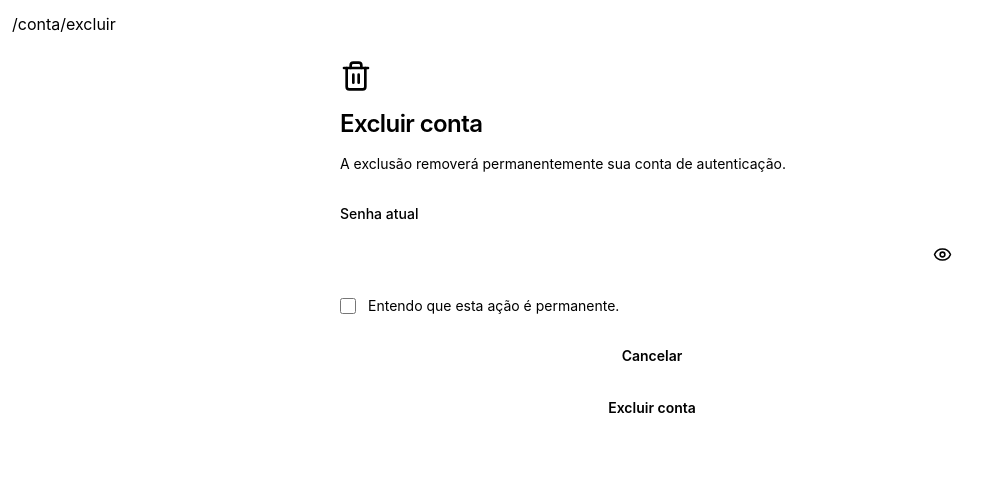
Test: DeleteCurrentUserPage › exige senha e confirmação explícita
Click the button "Excluir conta": [652, 408] box [340,388,964,428]
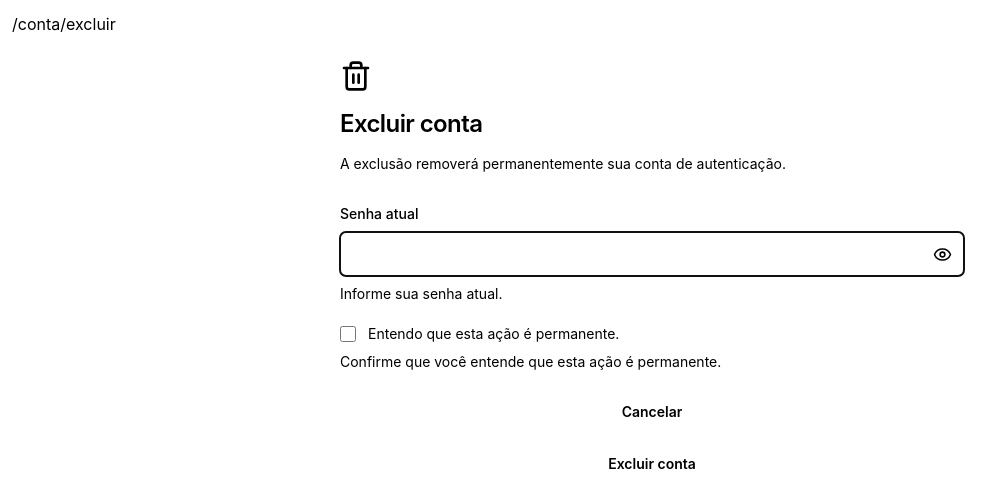
Expected: the text "Informe sua senha atual." is shown, [340,285,502,302]
Expected: the text "Confirme que você entende que esta ação é permanente." is shown, [340,353,721,370]
